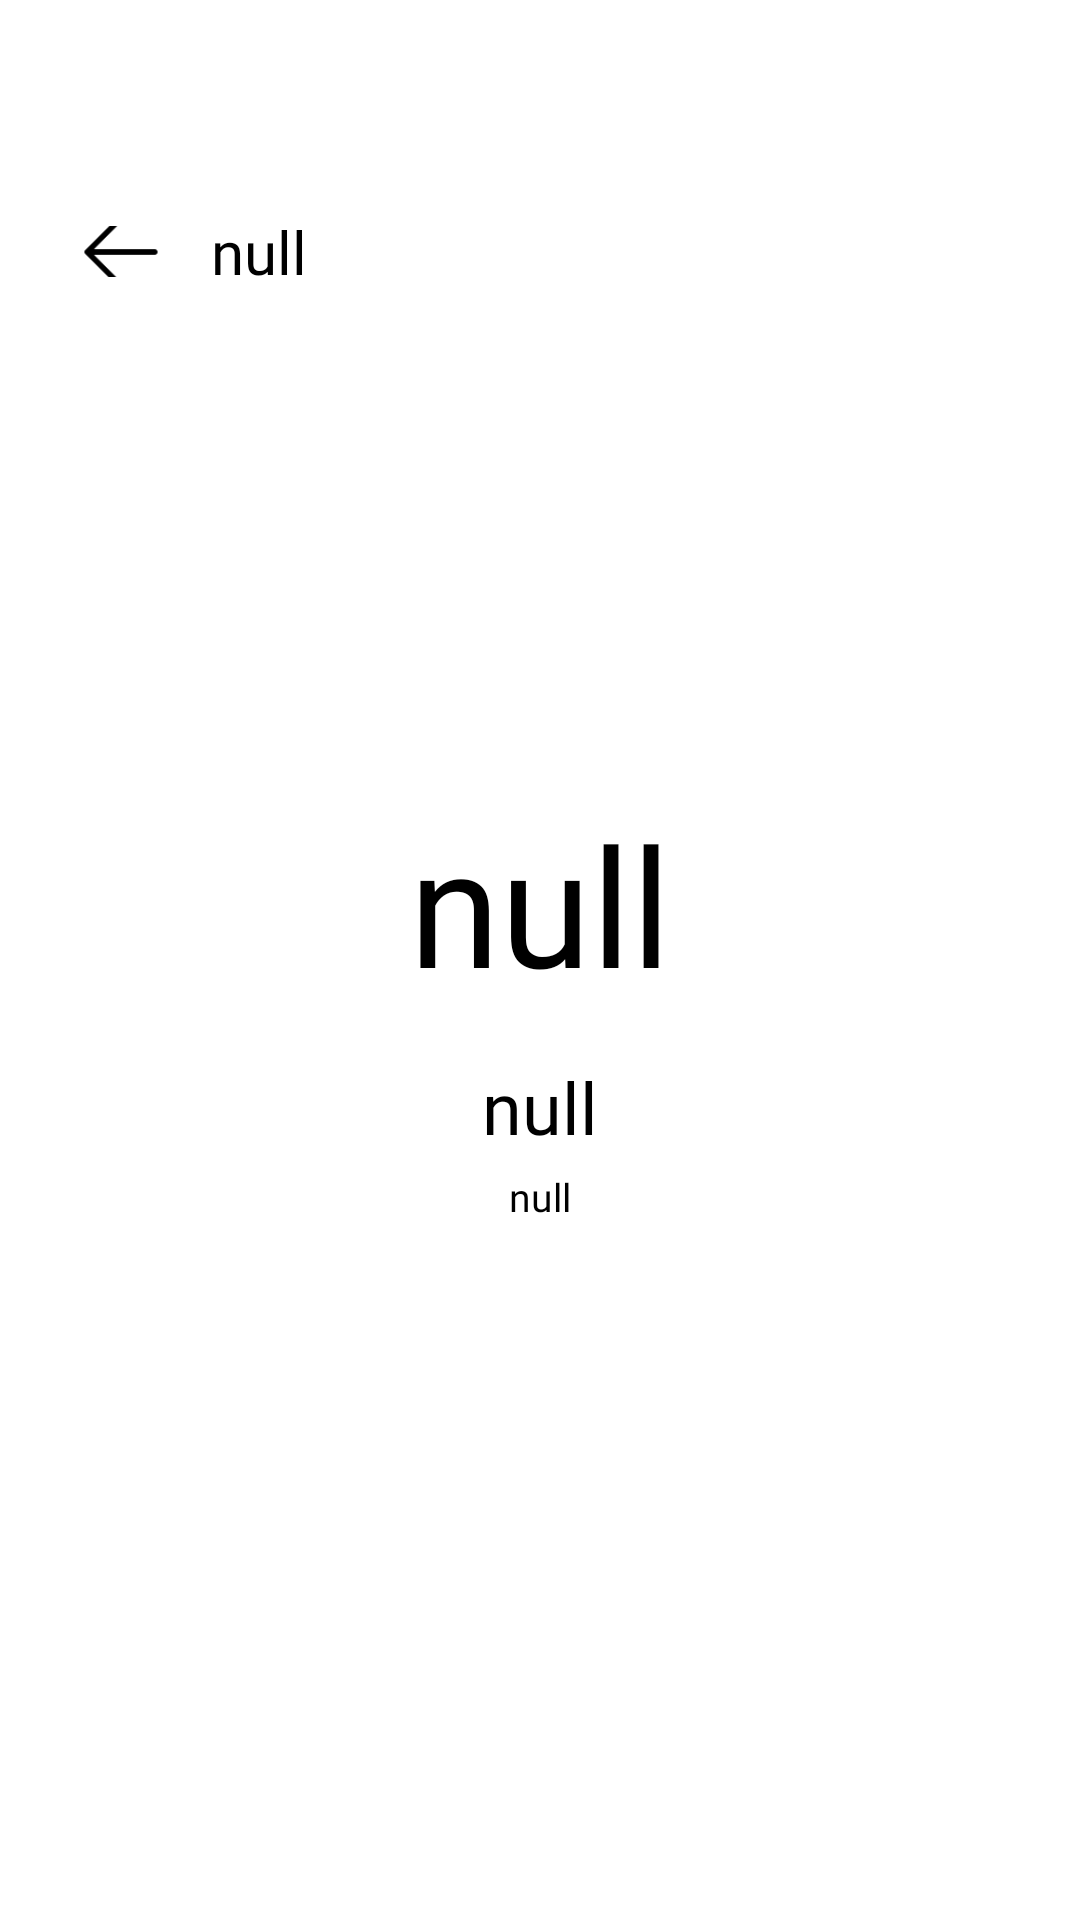

Named icons in this screenshot (1080 x 1920) and their bounding boxes, (x1, y1, x2, y2):
arrow left: (84, 226, 158, 277)
